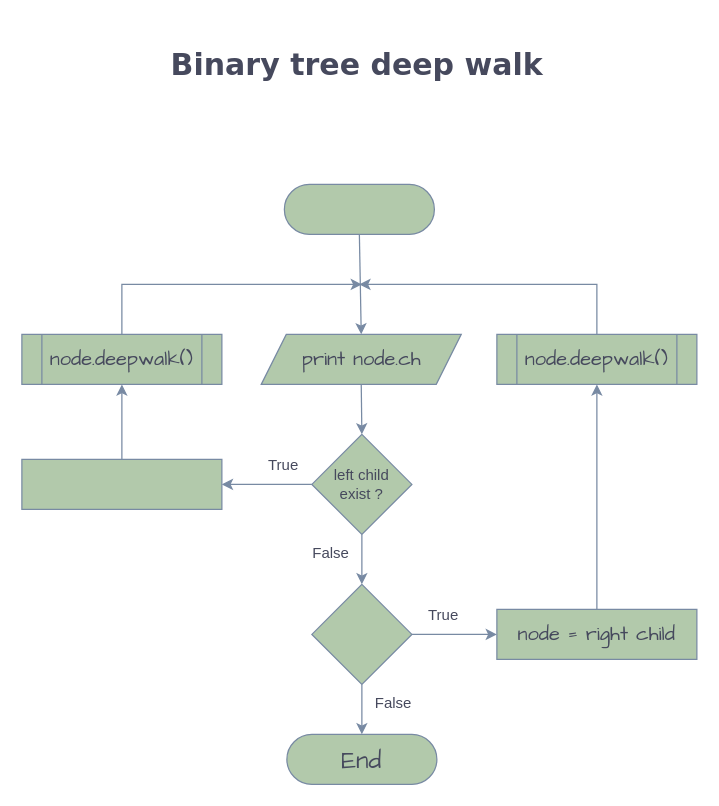
The diagram is 719 pixels wide and 806 high, and some of its shapes have lost their labels. The centre of each missing label's shape, as x and y in pixels:
node = left child: [121,483]
right child exist ?: [361,633]
Start: [358,208]
